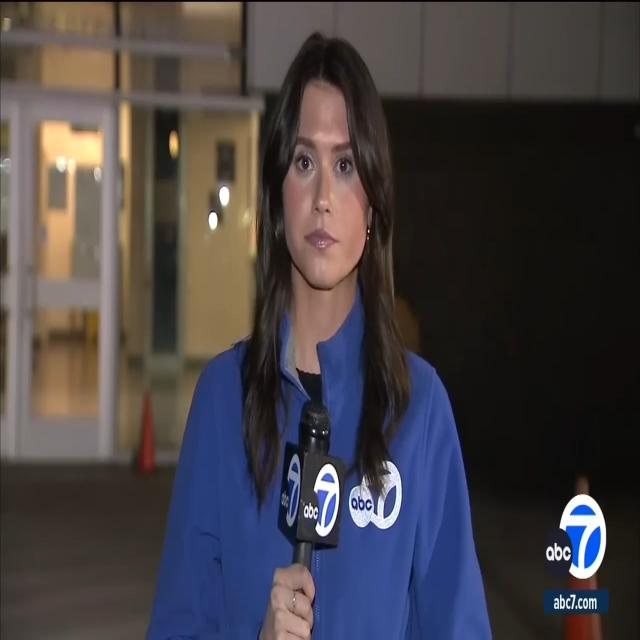microphone: (283, 396, 346, 631)
